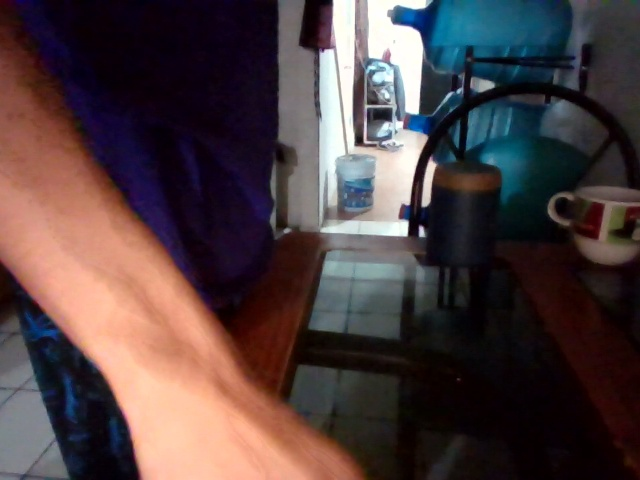taza: (422, 158, 502, 268)
